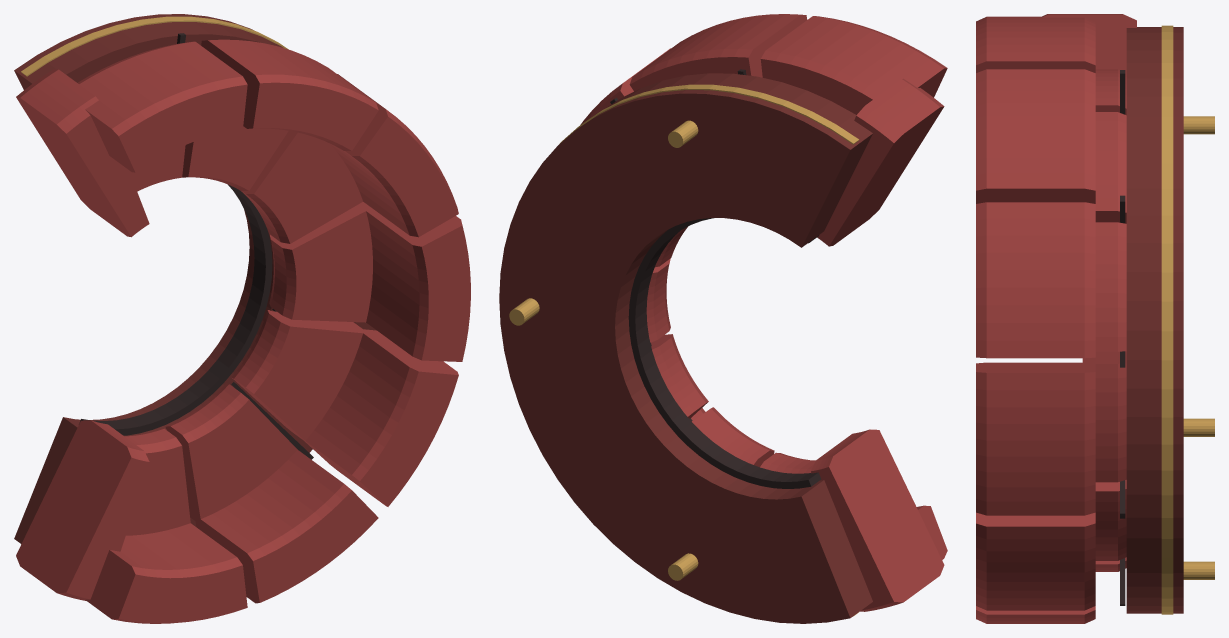
The model's file is bar_lounge_middle_couch.glb.
3 views of the same model, side by side, from view 1: azimuth 30°, elevation 25°; view 2: azimuth 150°, elevation 25°; view 3: azimuth 270°, elevation 25° (orthographic). The views are drawn at different scales.
Parts seen in each view (by area): view 1: Back_Cushion_03, Back_Cushion_07, Back_Cushion_02, Lower_Arm, Back_Cushion_04, Back_Cushion_01, Couch_Base, Back_Cushion_06, Seat_Cushion_03, Seat_Cushion_02, Seat_Cushion_04, Upper_Arm (+7 smaller); view 2: Couch_Base, Lower_Arm, Back_Cushion_07, Upper_Arm, Inner_Shadow_Trim, Back_Cushion_06, Seat_Cushion_03, Seat_Cushion_02, Gold_Base_Trim, Seat_Cushion_04, Seat_Cushion_01, Back_Cushion_01; view 3: Couch_Base, Back_Cushion_05, Back_Cushion_04, Back_Cushion_06, Back_Cushion_03, Gold_Base_Trim, Back_Cushion_07, Seat_Cushion_04, Seat_Cushion_05, Seat_Cushion_06, Seat_Cushion_03, Upper_Arm (+5 smaller).
Boxes of the visible parts, x1,y1,x2,y2 form: Back_Cushion_03: [302, 329, 458, 506]; Back_Cushion_07: [78, 41, 247, 172]; Back_Cushion_02: [195, 450, 378, 603]; Lower_Arm: [16, 420, 149, 600]; Back_Cushion_04: [364, 204, 470, 361]; Back_Cushion_01: [85, 523, 247, 623]; Couch_Base: [14, 14, 376, 543]; Back_Cushion_06: [201, 39, 378, 150]; Seat_Cushion_03: [231, 310, 363, 441]; Seat_Cushion_02: [165, 383, 297, 521]; Seat_Cushion_04: [269, 202, 372, 322]; Upper_Arm: [16, 69, 149, 237]; Couch_Base: [499, 73, 872, 623]; Lower_Arm: [811, 429, 944, 611]; Back_Cushion_07: [760, 16, 947, 114]; Upper_Arm: [817, 78, 944, 246]; Inner_Shadow_Trim: [628, 218, 821, 488]; Back_Cushion_06: [629, 14, 807, 91]; Seat_Cushion_03: [651, 334, 708, 418]; Seat_Cushion_02: [692, 407, 774, 467]; Gold_Base_Trim: [559, 84, 859, 616]; Seat_Cushion_04: [646, 258, 670, 342]; Seat_Cushion_01: [760, 452, 815, 473]; Back_Cushion_01: [916, 505, 947, 559]; Couch_Base: [1126, 27, 1183, 613]; Back_Cushion_05: [976, 202, 1095, 358]; Back_Cushion_04: [976, 362, 1095, 515]; Back_Cushion_06: [976, 69, 1095, 203]; Back_Cushion_03: [976, 512, 1095, 610]; Gold_Base_Trim: [1161, 25, 1173, 614]; Back_Cushion_07: [976, 16, 1095, 72]; Seat_Cushion_04: [1082, 351, 1126, 482]; Seat_Cushion_05: [1095, 222, 1126, 351]; Seat_Cushion_06: [1095, 112, 1126, 223]; Seat_Cushion_03: [1095, 480, 1126, 560]; Upper_Arm: [1041, 14, 1136, 72].
Bounding box in the file's own units: 1.76 × 2.34 × 0.92.
